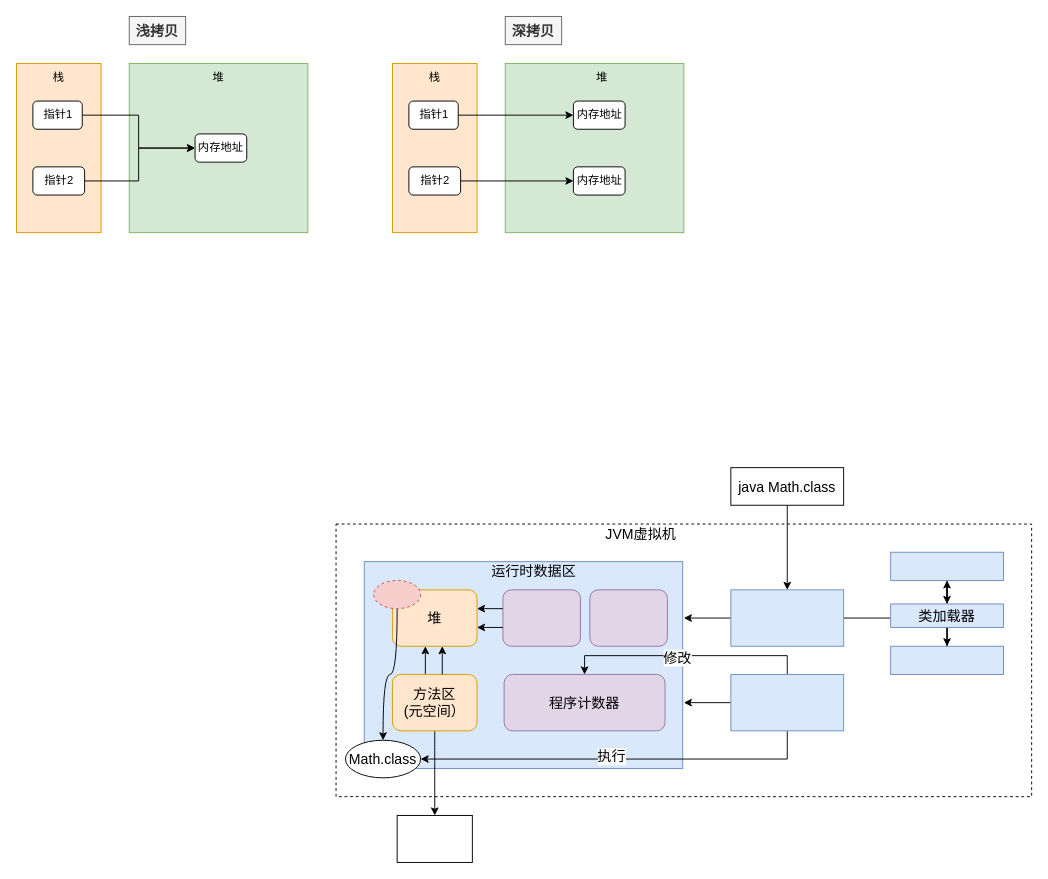
The diagram is 1048 pixels wide and 879 high, and some of its shapes have lost their labels. The shapes that lost their labels are listed below. From the top down, each one's centre as x and y in pixels, then its label:
At pixel 946 565: "类加载过程".
At pixel 397 594: "Math".
At pixel 541 617: "栈(线程)".
At pixel 628 617: "本地方法栈".
At pixel 787 617: "类加载子系统".
At pixel 946 659: "双亲委派机制".
At pixel 787 702: "字节码执行引擎".
At pixel 434 838: "直接内存".
